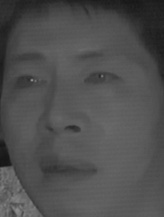eye: (79, 68, 123, 91), (10, 72, 47, 94)
mouth: (38, 152, 97, 187)
